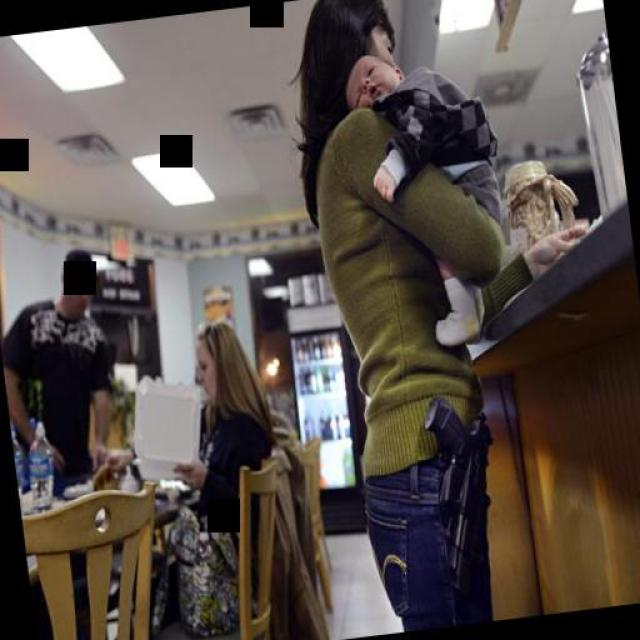gun: (415, 384, 510, 591)
